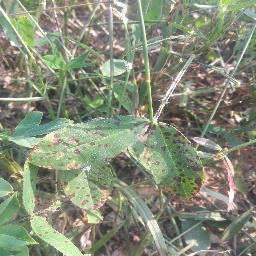GroundNut_Leaf: (25, 113, 148, 170), (150, 116, 204, 201), (57, 173, 116, 215), (1, 224, 43, 250)
